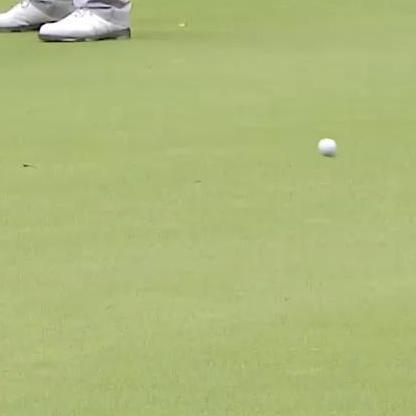golfball: (315, 135, 337, 157)
